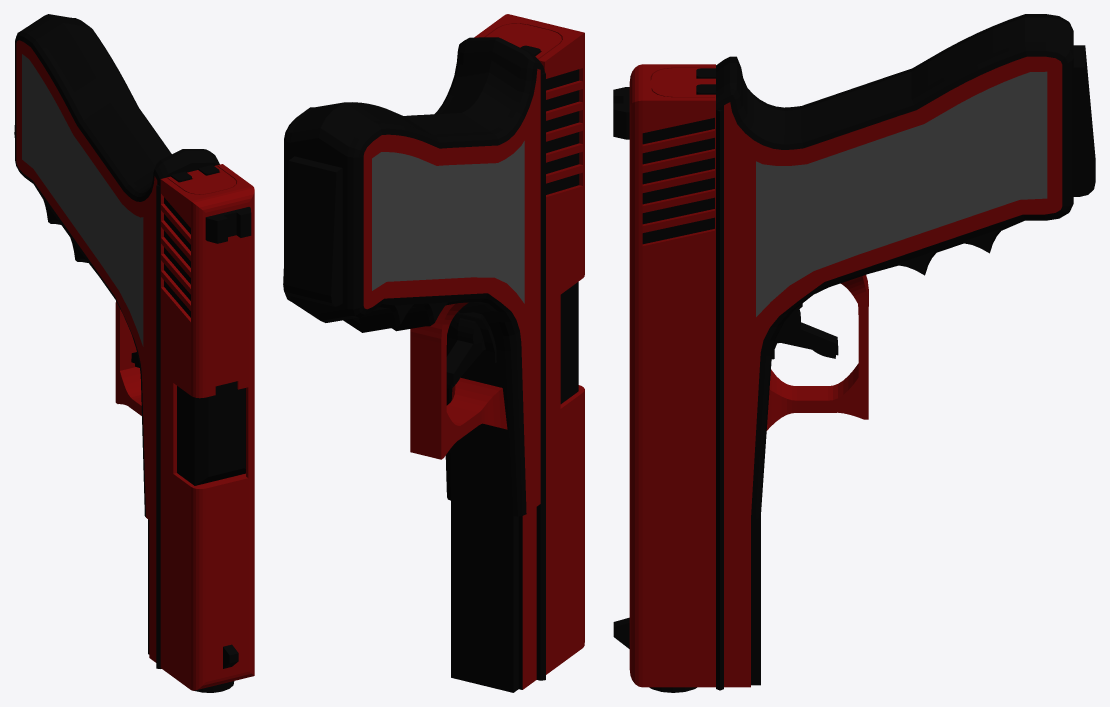
The model's file is gun.fbx.
The picture shows the model from 3 angles, left to right: view 1: azimuth 30°, elevation 25°; view 2: azimuth 150°, elevation 25°; view 3: azimuth 270°, elevation 25°; orthographic projection. The views are drawn at different scales.
Parts seen in each view (by area): view 1: slider, grip, StipplingPoligon1, ejectionPort, triggerGurd, RearSight; view 2: grip, slider, StipplingPoligon1, triggerGurd, ejectionPort, trigger, triggerBase; view 3: grip, slider, StipplingPoligon2, triggerGurd, trigger, RearSight.
Boxes of the visible parts, x1,y1,x2,y2 form: slider: (160,164,254,690); grip: (14,14,219,668); StipplingPoligon1: (22,54,143,346); ejectionPort: (177,381,245,485); triggerGurd: (115,301,141,415); RearSight: (205,207,251,243); grip: (283,37,545,692); slider: (474,14,584,674); StipplingPoligon1: (372,141,524,303); triggerGurd: (410,302,507,459); ejectionPort: (560,282,578,403); trigger: (446,318,485,389); triggerBase: (453,312,496,363); grip: (696,14,1095,690); slider: (629,64,715,687); StipplingPoligon2: (756,71,1047,316); triggerGurd: (766,275,868,430); trigger: (777,309,838,358); RearSight: (613,87,629,139).
Size of the model in its own units: 1.09 by 8.5 by 5.61.
